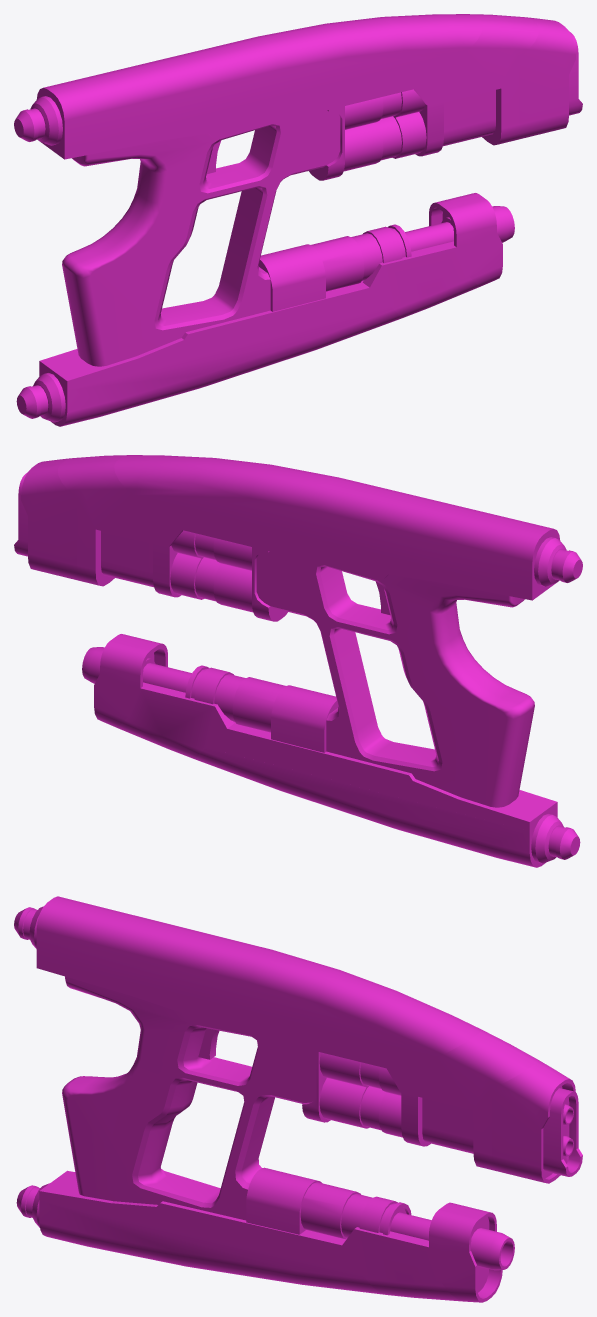
The model's file is SGUN_Blenderkit.fbx.
3 renders of one model, top to bottom at view 1: azimuth 30°, elevation 25°; view 2: azimuth 150°, elevation 25°; view 3: azimuth 330°, elevation 25°, orthographic.
Visible parts, largest first — view 1: Starlord Gun; view 2: Starlord Gun; view 3: Starlord Gun.
Boxes of the visible parts, x1,y1,x2,y2 form: Starlord Gun: (14, 14, 582, 426); Starlord Gun: (14, 455, 582, 867); Starlord Gun: (14, 896, 582, 1302).
Size of the model in its own units: 526 by 301 by 45.71.
